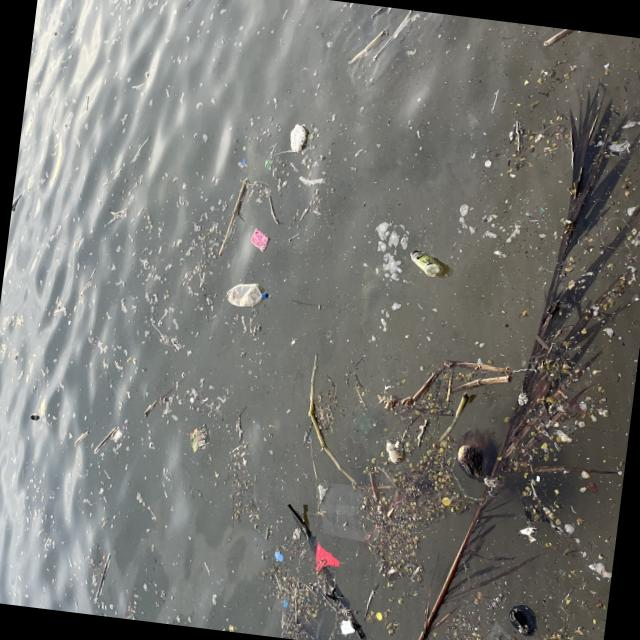foam: (288, 124, 308, 153), (337, 617, 356, 634)
plastic bottle: (226, 281, 270, 308), (408, 251, 446, 278), (382, 441, 405, 463)
